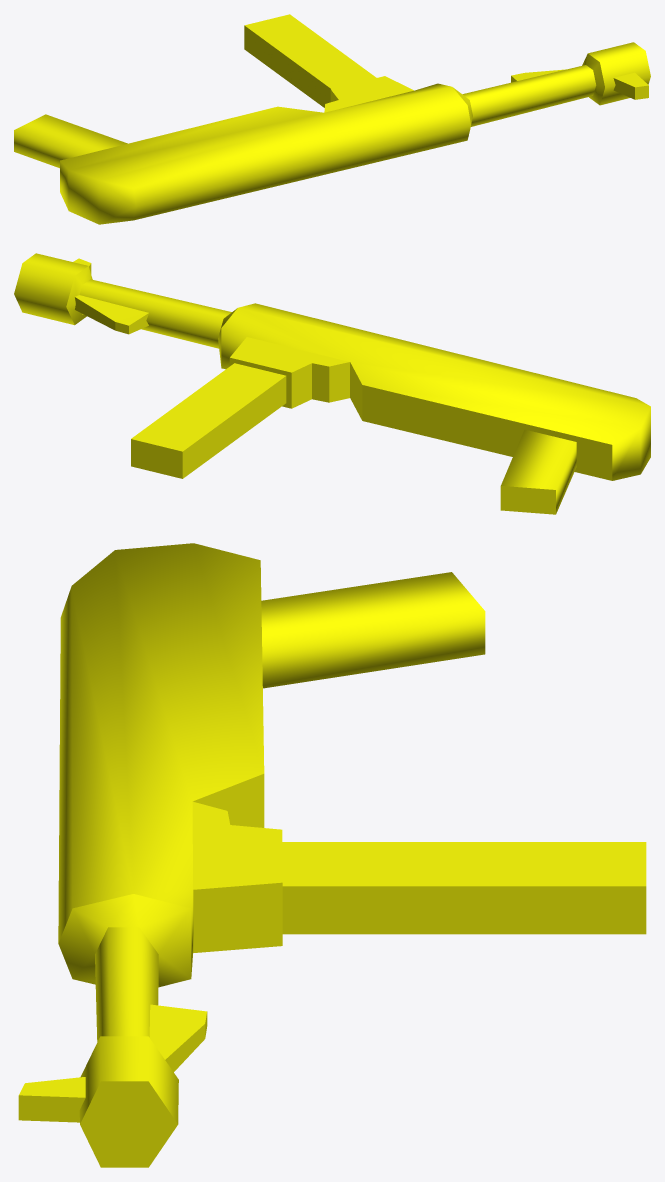
The model's file is weapon_mp40.glb.
3 views of the same model, one above another, from view 1: azimuth 30°, elevation 25°; view 2: azimuth 150°, elevation 25°; view 3: azimuth 270°, elevation 25° (orthographic). The views are drawn at different scales.
Visible parts, largest first — view 1: weapon_mp40; view 2: weapon_mp40; view 3: weapon_mp40.
Boxes of the visible parts, bbox=[...] form: weapon_mp40: bbox=[14, 14, 650, 224]; weapon_mp40: bbox=[14, 253, 650, 514]; weapon_mp40: bbox=[18, 543, 646, 1167].
Bounding box in the file's own units: 1.19 × 0.1024 × 0.5833.
1 material, 1 textured.
